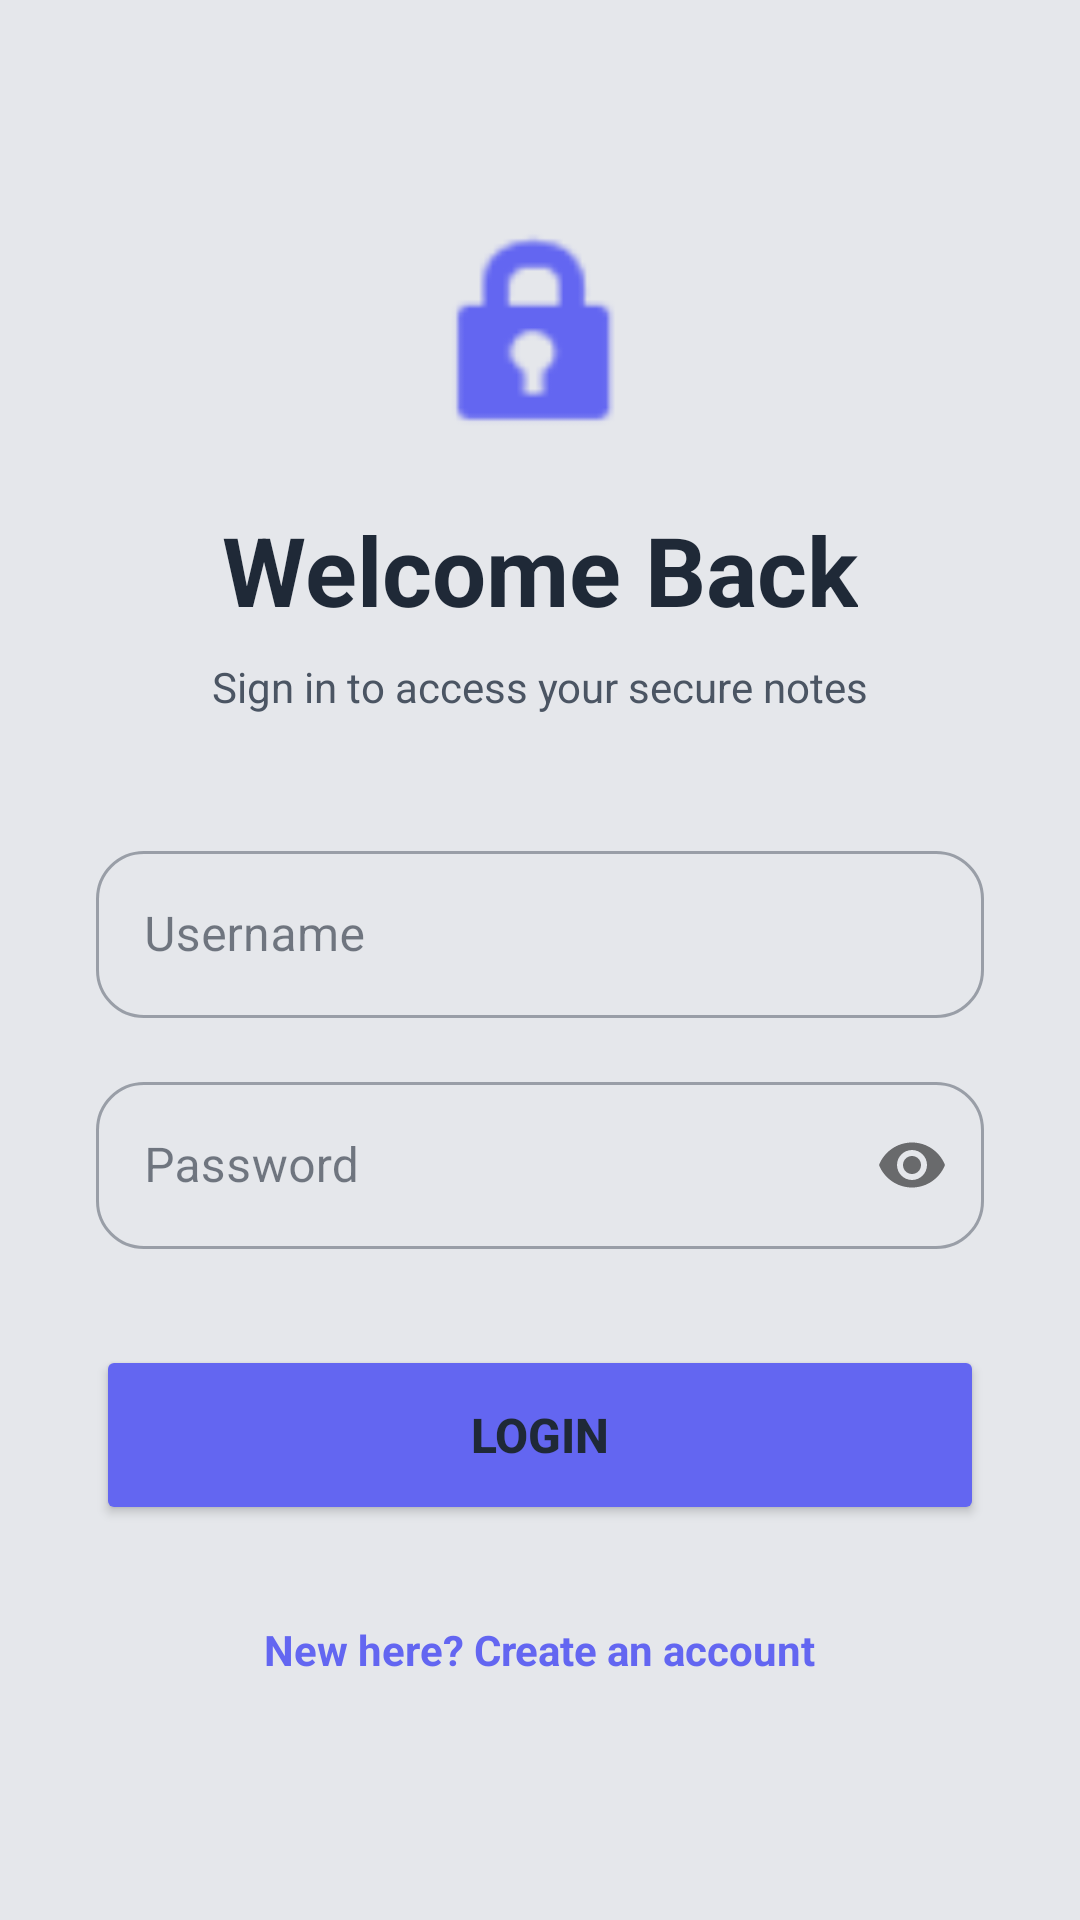

Icon bounding boxes for this 1080×1920 phone screenshot, format (x1, y1, x2, y2):
lock idle: (456, 238, 612, 421)
